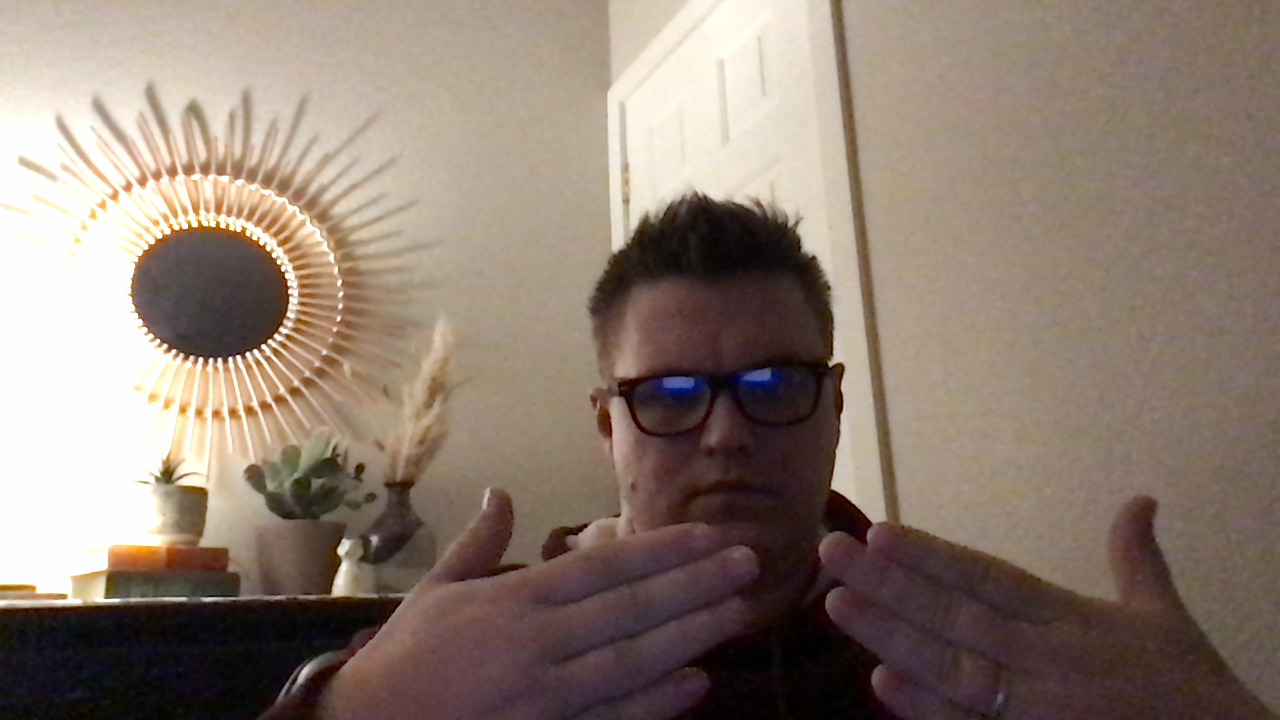thankyou: (324, 489, 1280, 720)
